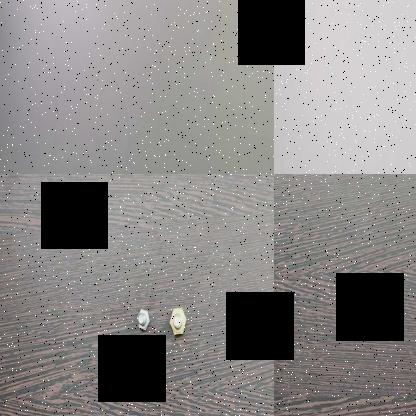Bolts: (168, 303, 188, 337), (134, 302, 152, 336)
